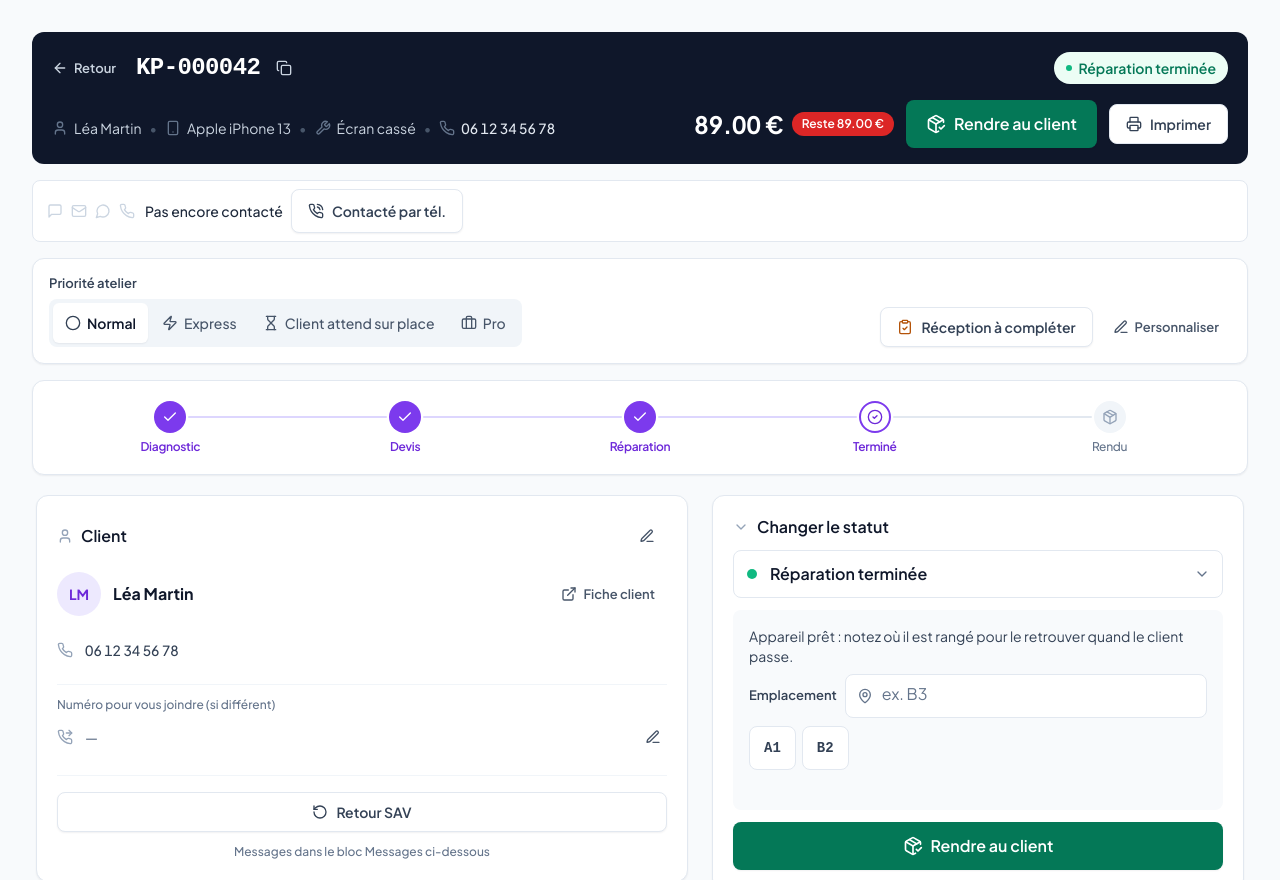
it: Fiche : emplacement sur l’étagère › « Réparation terminée » sans emplacement : invitation à ranger, bouton rapide enregistré, étiquette en en-tête
Expected: the text "Appareil prêt : notez où il est rangé" is shown, x1=749 y1=627 x2=1184 y2=665
Step 1. Click the button "B2" → (825, 748), box x1=802 y1=726 x2=849 y2=770
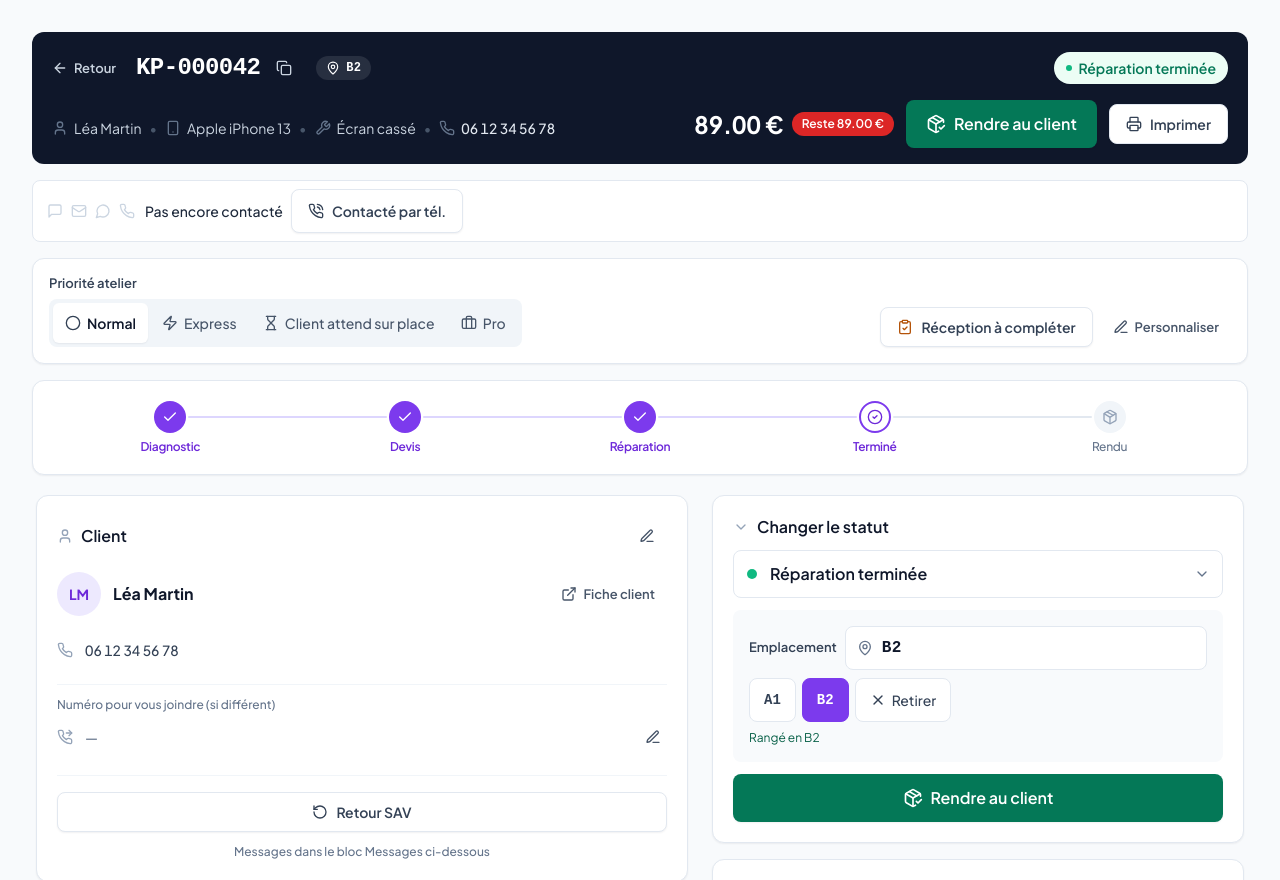
Expected: the element titled "Emplacement sur l’étagère" reads "B2", x1=346 y1=61 x2=361 y2=75
Expected: the text "Appareil prêt : notez où il est rangé" is gone
